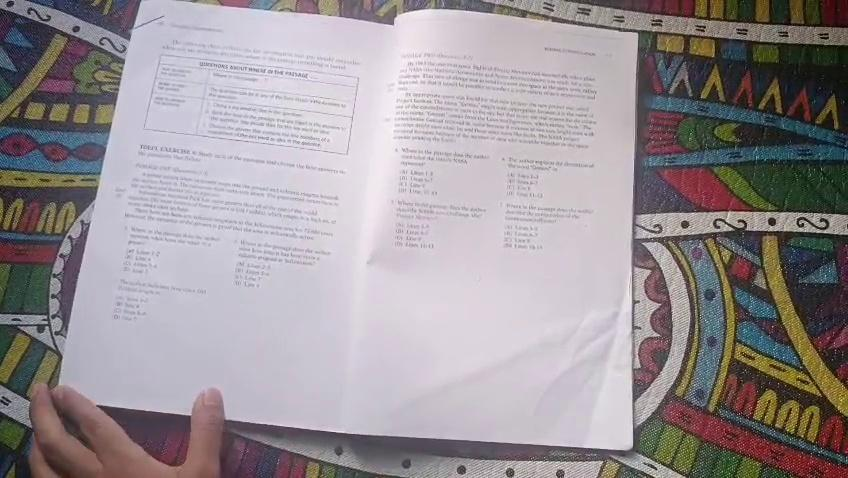Kertas: (317, 0, 661, 460), (133, 22, 488, 388)
